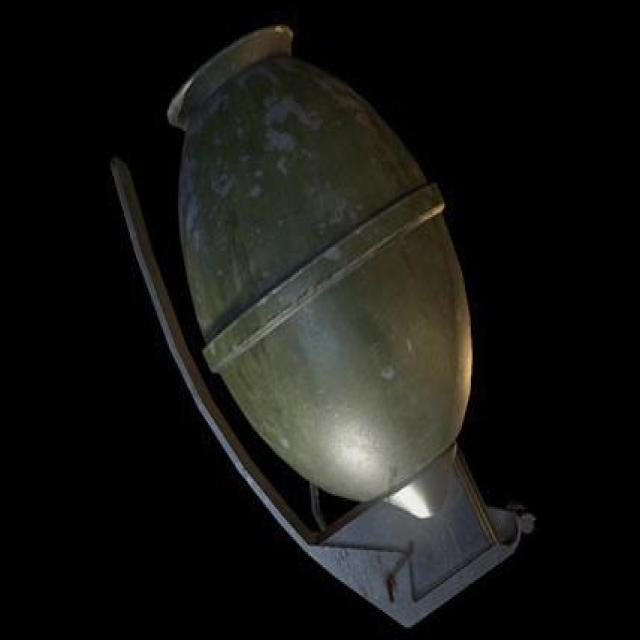grenade: (112, 26, 525, 632)
